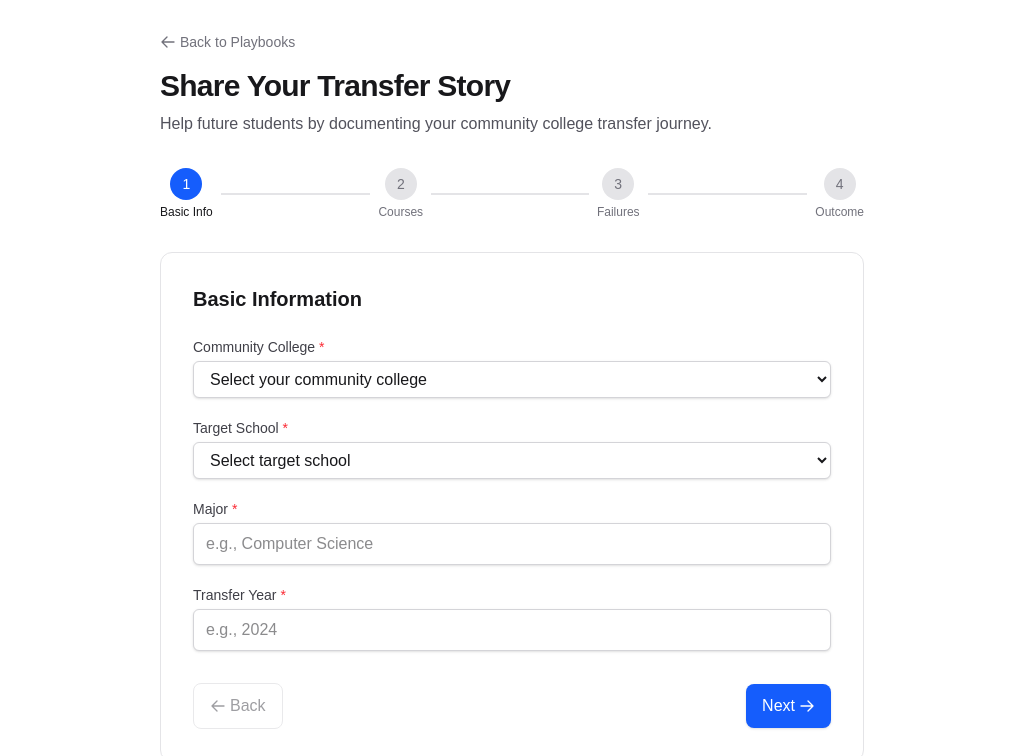
Test: PlaybookSubmitClient › shows error message when submission fails
# Fill required fields
Step 1. Select "SMC - Santa Monica College" in the dropdown labelled "Community College *" → (512, 380), box [193,361,831,398]
Step 2. Select "UCLA - UCLA" in the dropdown labelled "Target School *" → (512, 460), box [193,442,831,479]
Step 3. Type "Computer Science" into the field labelled "Major *" → (512, 544), box [193,523,831,565]
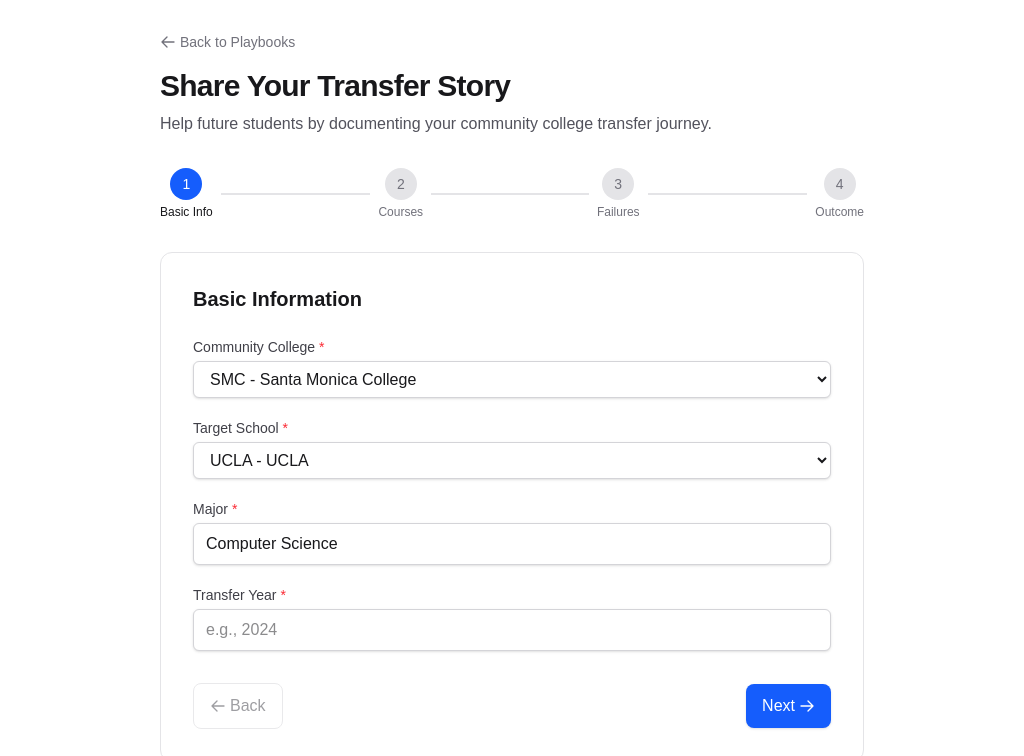
Step 4. Type "2024" into the number field labelled "Transfer Year *" → (512, 630), box [193,609,831,651]
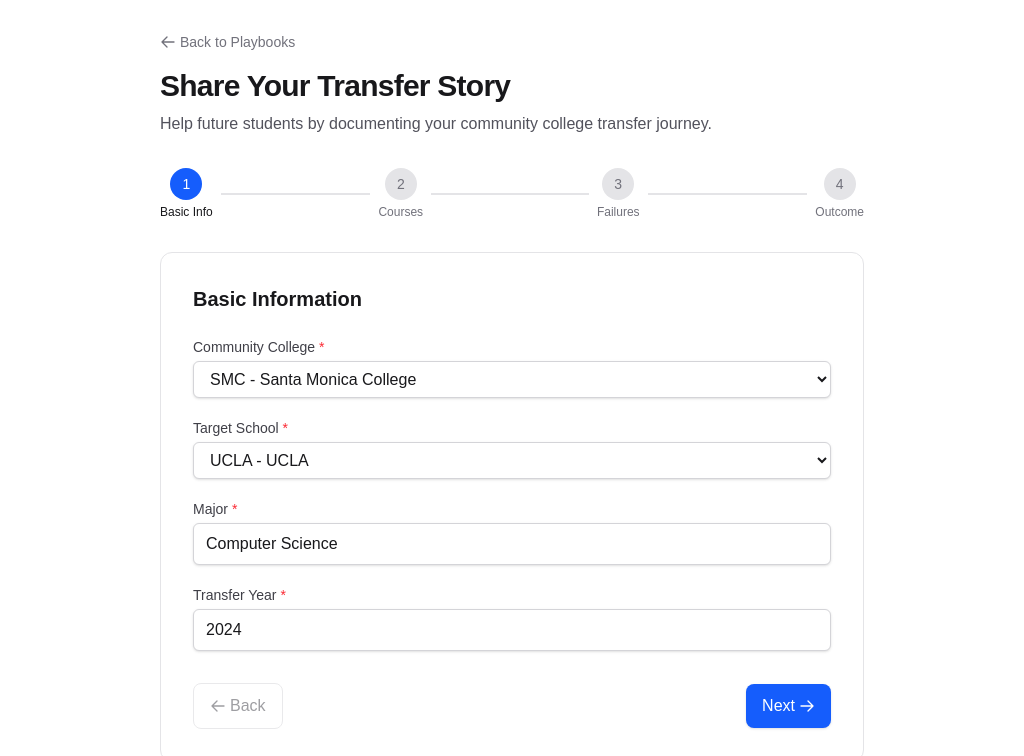
# Navigate to final step
Step 5. Click the button with test id "next-step-button" → (789, 706), box [746,684,831,728]
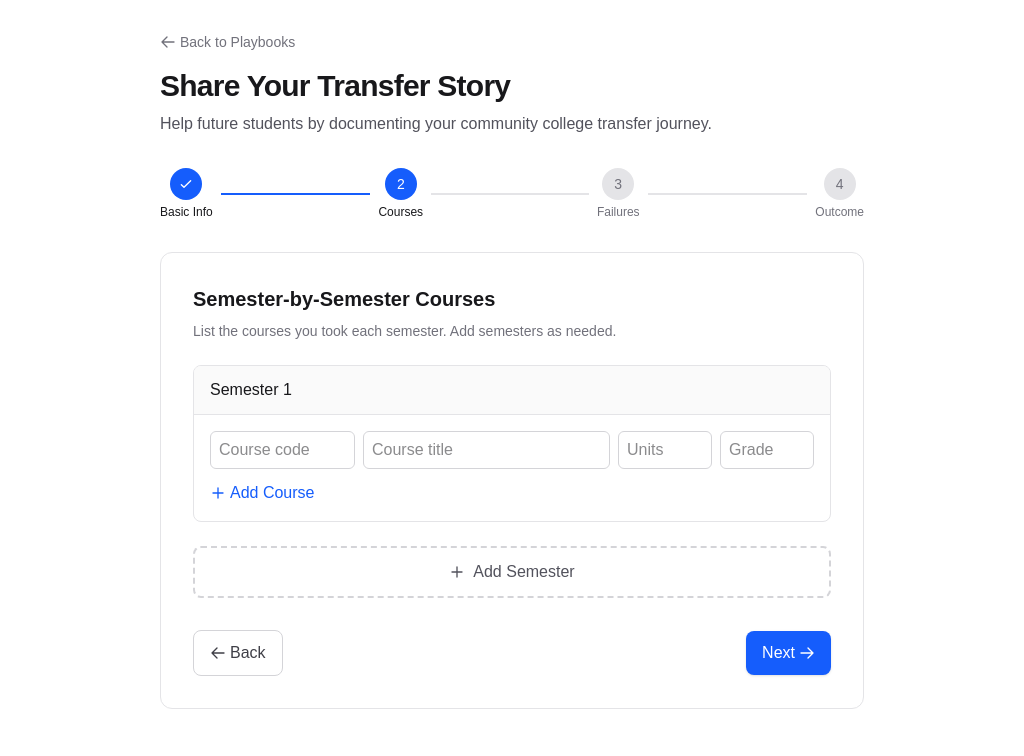
Step 6. Click the button with test id "next-step-button" → (789, 653), box [746,631,831,675]
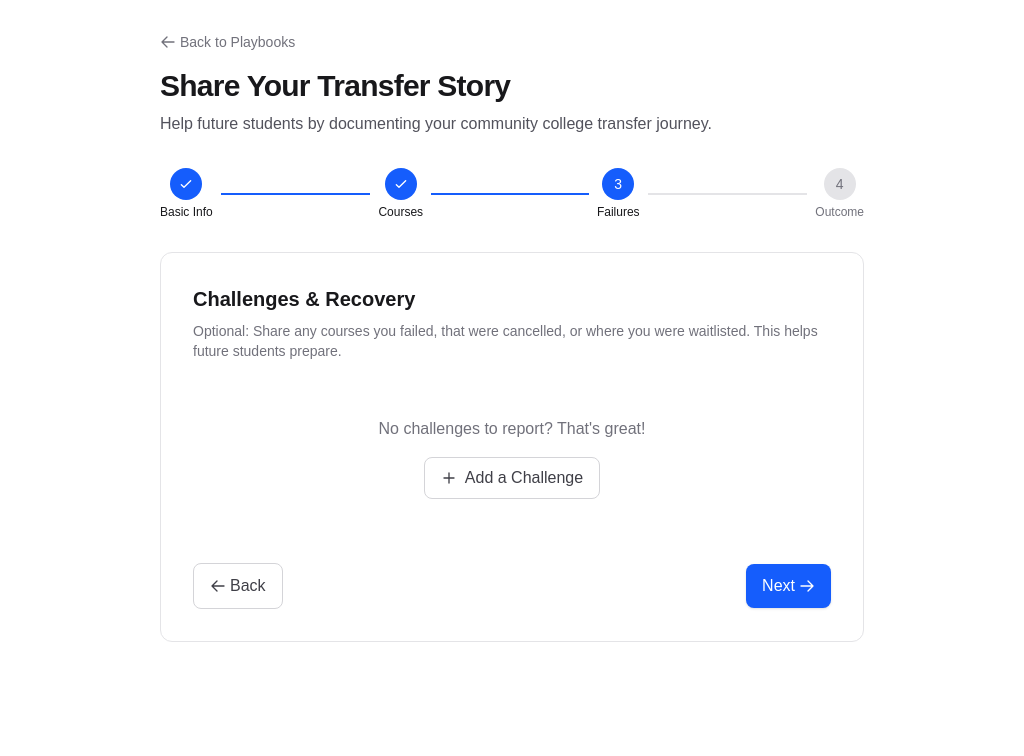
Step 7. Click the button with test id "next-step-button" → (789, 586), box [746,564,831,608]
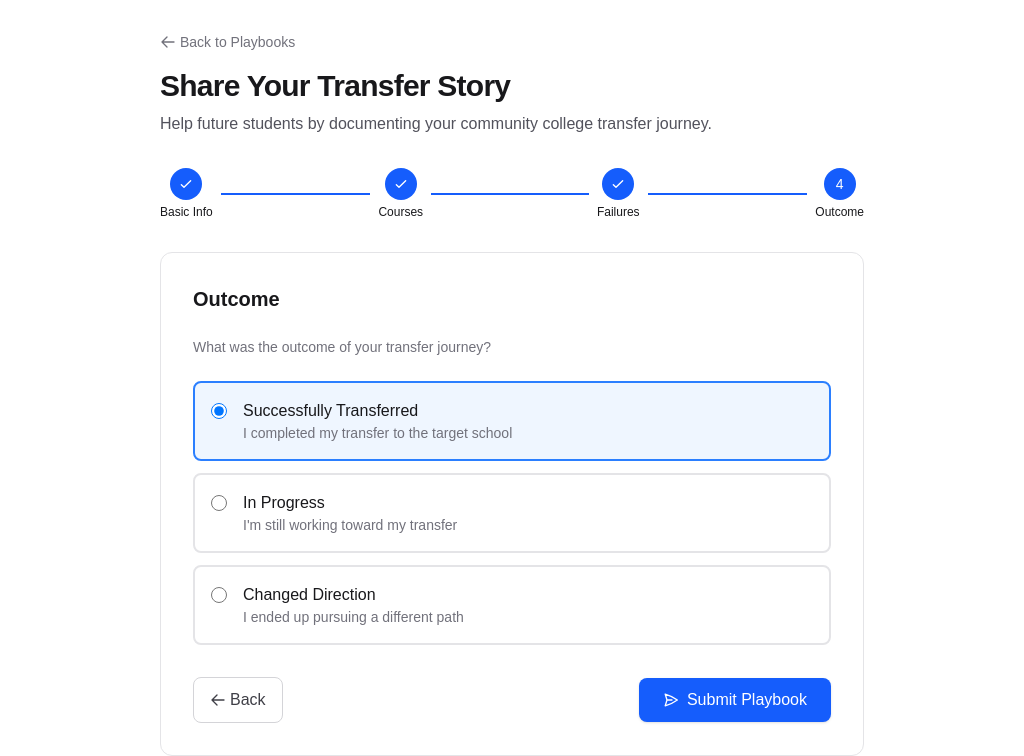
Step 8. Click the button with test id "submit-button" → (735, 700), box [639,678,831,722]
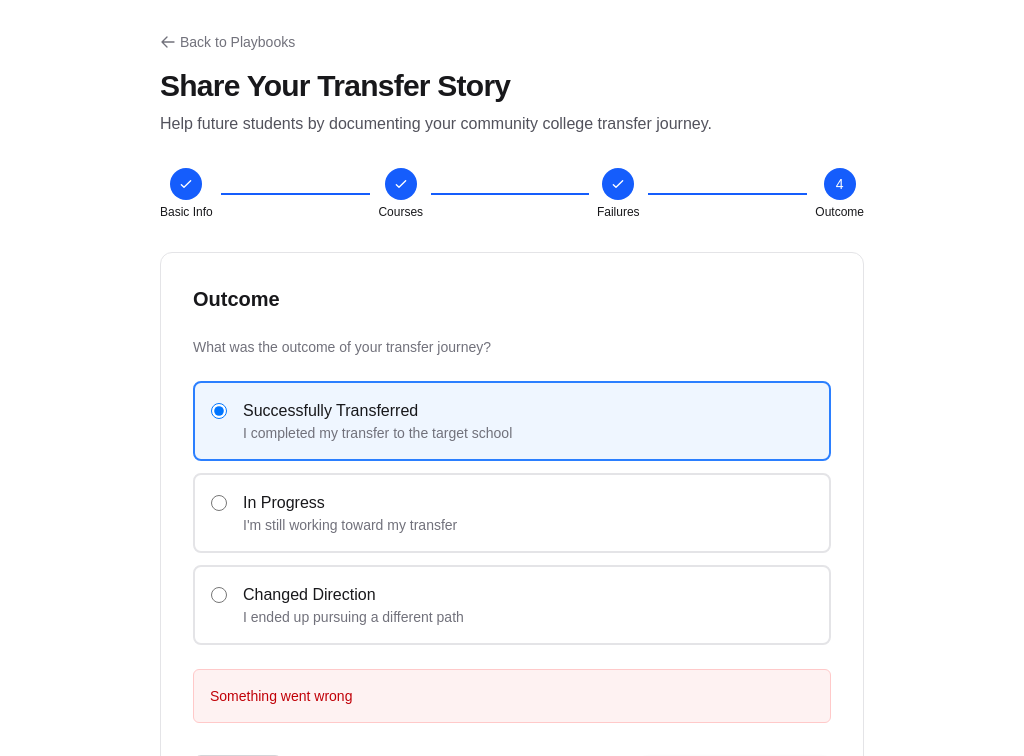
Check: the message "Something went wrong" is shown, box [193,669,831,723]
Check: the message with test id "submit-error" reads "Something went wrong", box [210,688,352,704]
